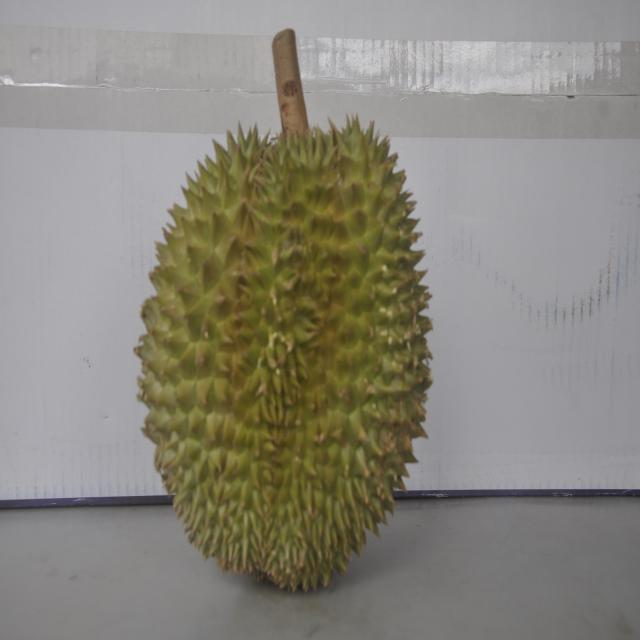mature: (135, 107, 426, 591)
